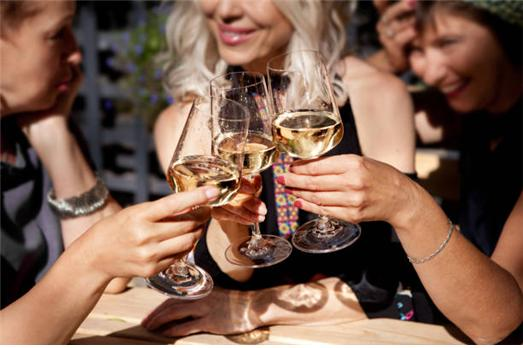alcohol: (265, 46, 364, 250), (150, 96, 248, 299), (210, 69, 291, 267)
